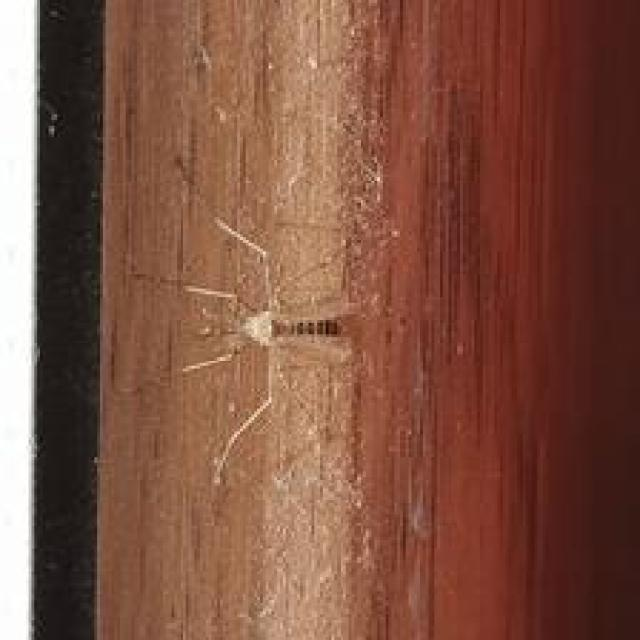Culex: (179, 213, 364, 487)
